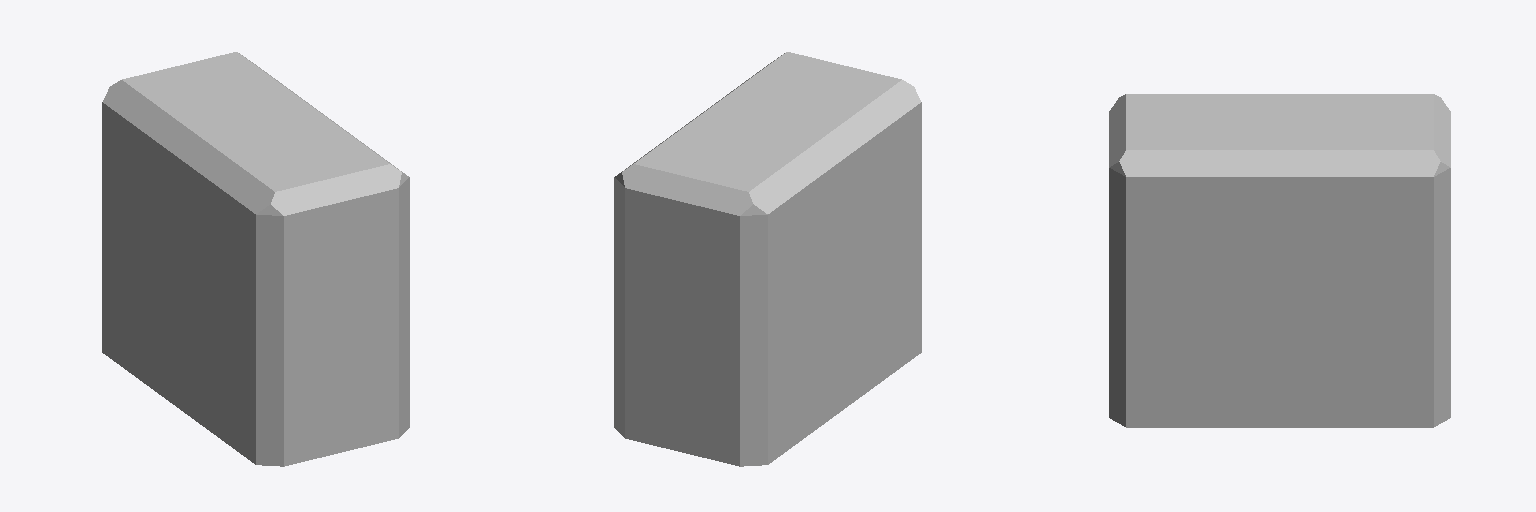
Rendered from PCInside.obj.
The picture shows the model from 3 angles: view 1: azimuth 30°, elevation 25°; view 2: azimuth 150°, elevation 25°; view 3: azimuth 270°, elevation 25°; orthographic projection.
Visible parts, largest first — view 1: PC_copy28; view 2: PC_copy28; view 3: PC_copy28.
Part boxes in pixels (left/top/right/bottom): PC_copy28: left=102, top=52, right=409, bottom=466; PC_copy28: left=614, top=52, right=921, bottom=466; PC_copy28: left=1109, top=94, right=1450, bottom=427.
Size of the model in its own units: 0.8 by 1.34 by 1.54.